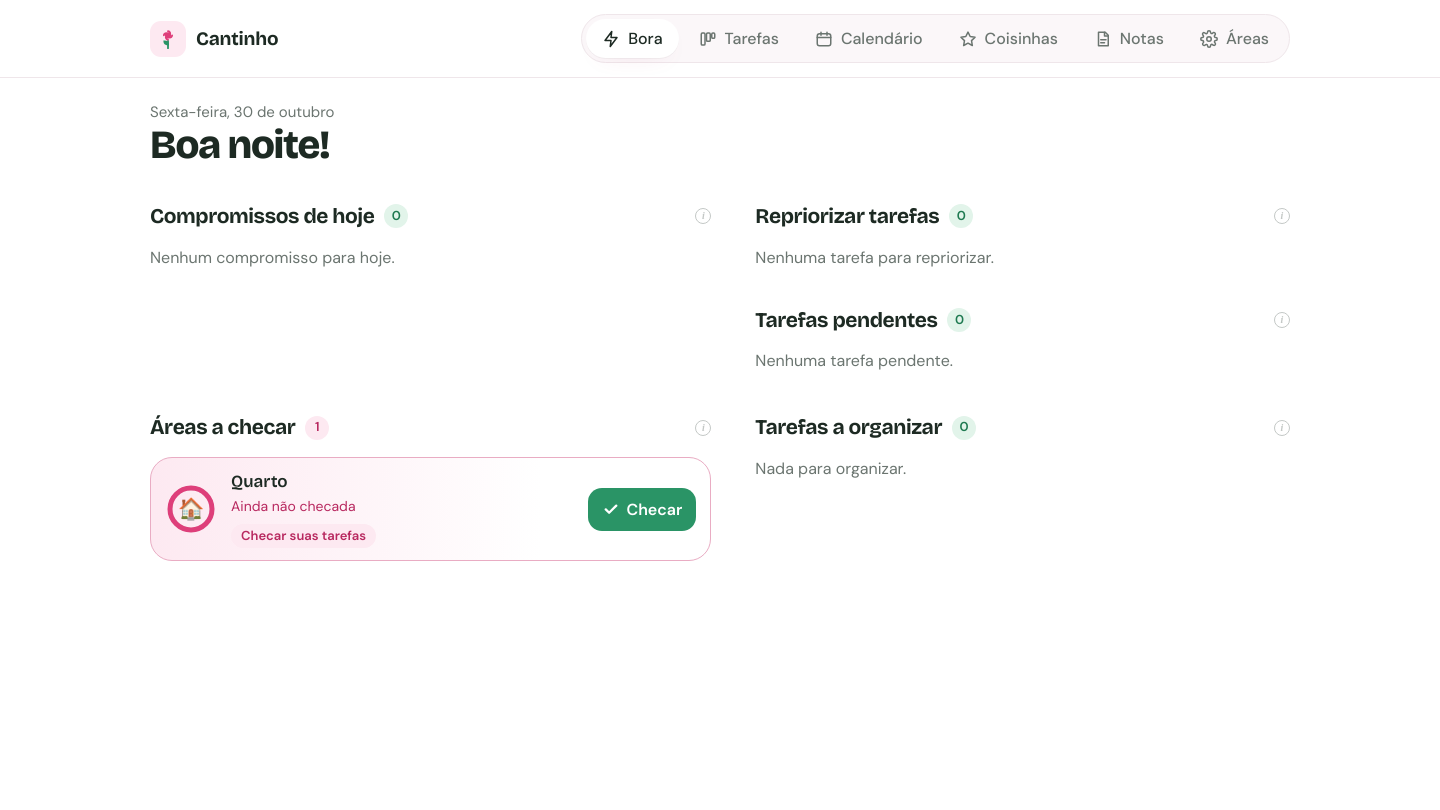
Scenario: Início (Bora) › checar uma área pendente a tira da lista e permite desfazer
Expected: the text "Ainda não checada" is shown, top-left (231, 498), bottom-right (356, 516)
Click the button with aria-label "Checar Quarto" at (642, 509), box top-left (588, 488), bottom-right (696, 531)
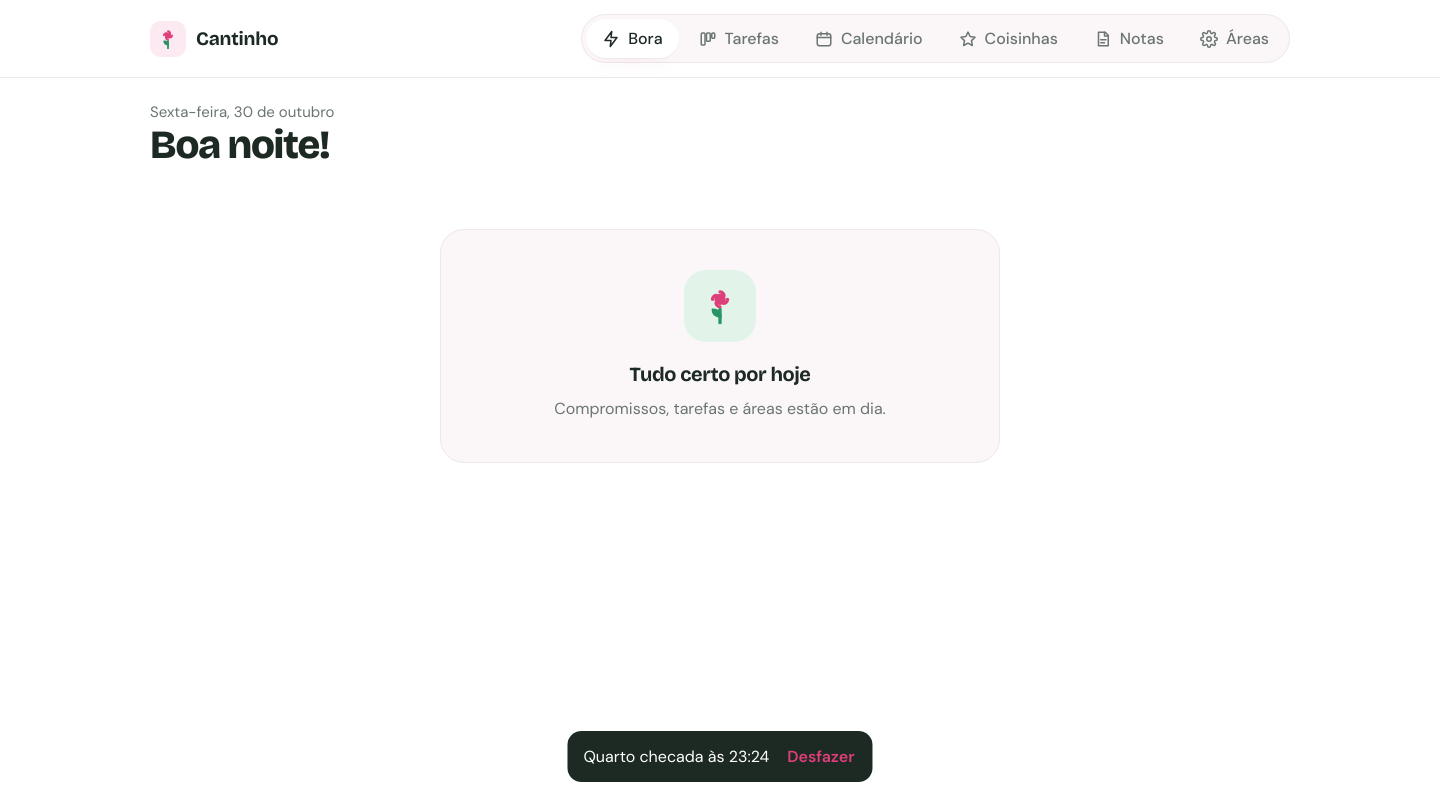
Result: the text "Quarto checada às 23:24" is shown at top-left (584, 745), bottom-right (769, 768)
Result: the text "Tudo certo por hoje" is shown at top-left (630, 362), bottom-right (811, 386)
Click the button "Desfazer" at (821, 756), box top-left (781, 741), bottom-right (860, 772)
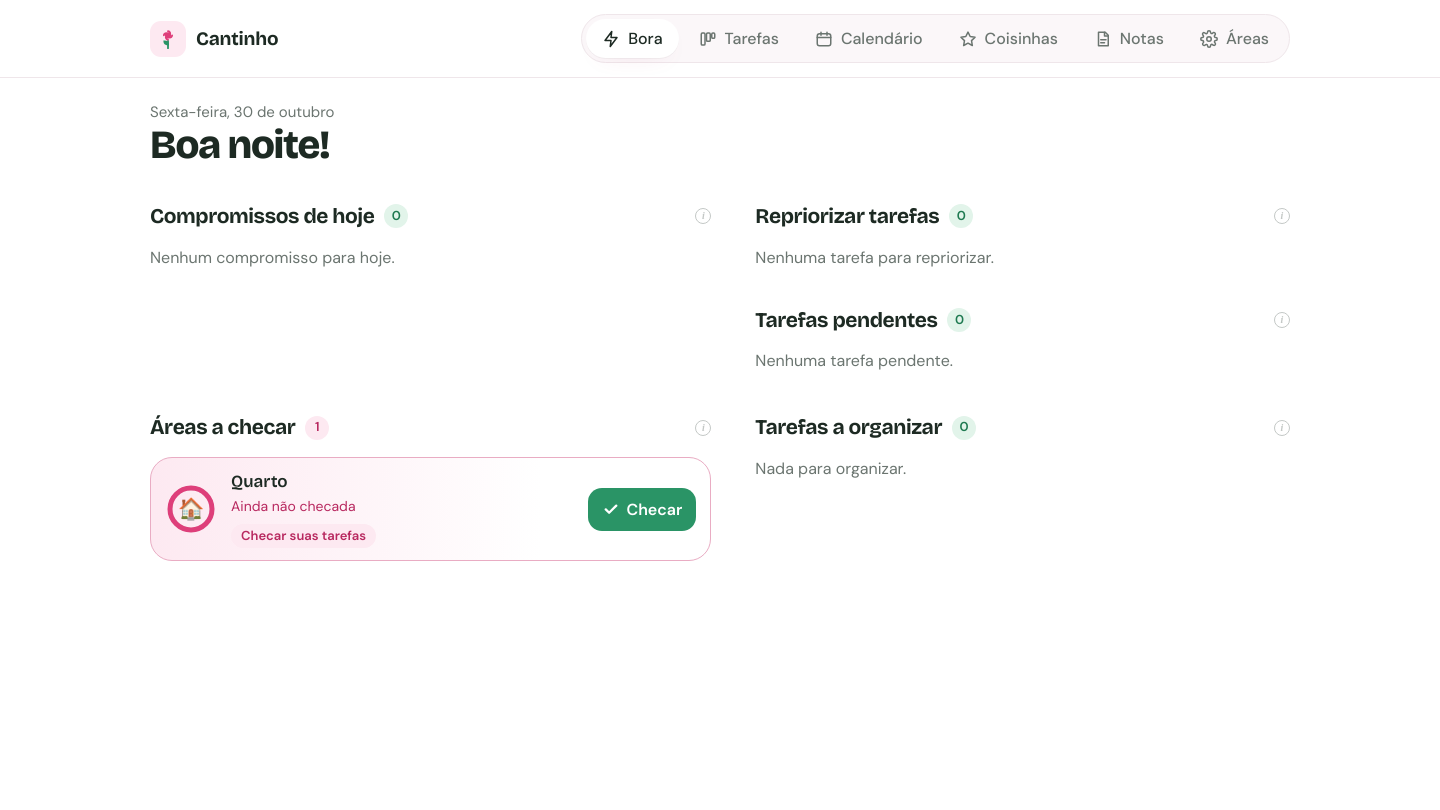
Result: the text "Ainda não checada" is shown at top-left (231, 498), bottom-right (356, 516)
